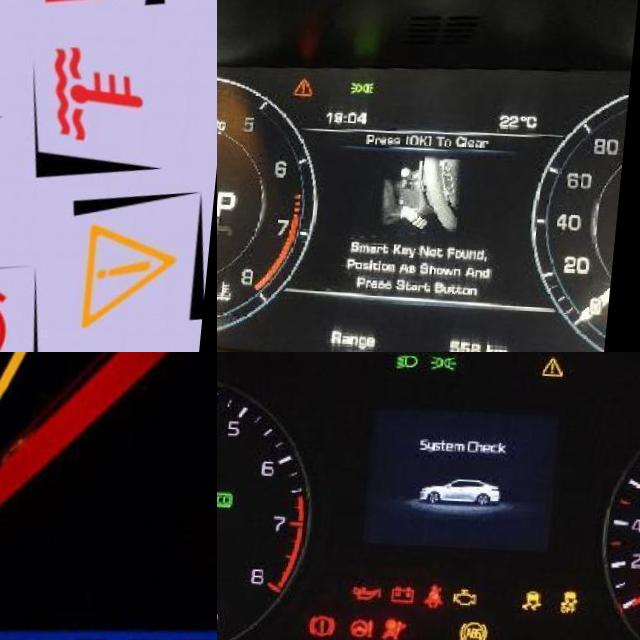Engine cooling system: (219, 276, 243, 300)
High Engine Coolant Temperature: (217, 622, 221, 635)
Seat Belt: (433, 580, 455, 607)
